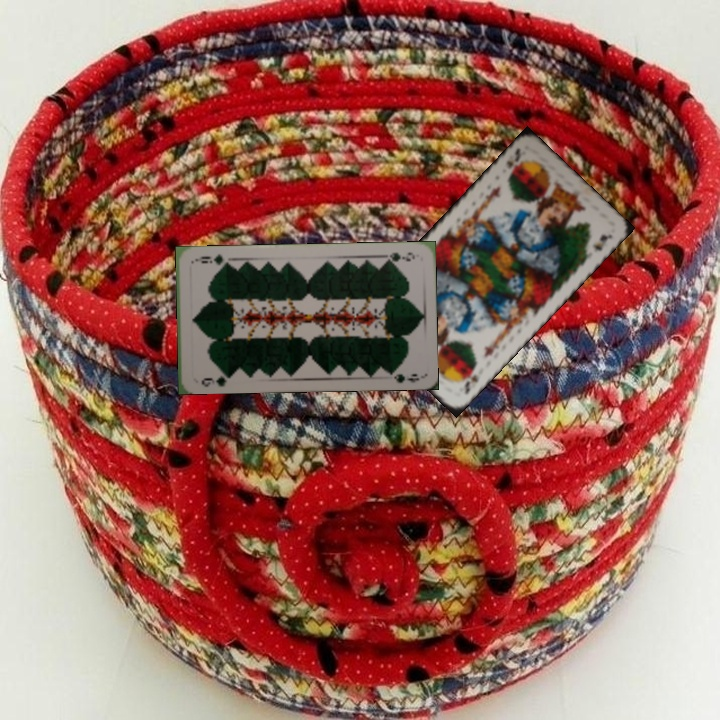G9: (197, 369, 233, 389), (379, 248, 417, 265)
SK: (458, 361, 481, 398), (502, 144, 525, 178)
